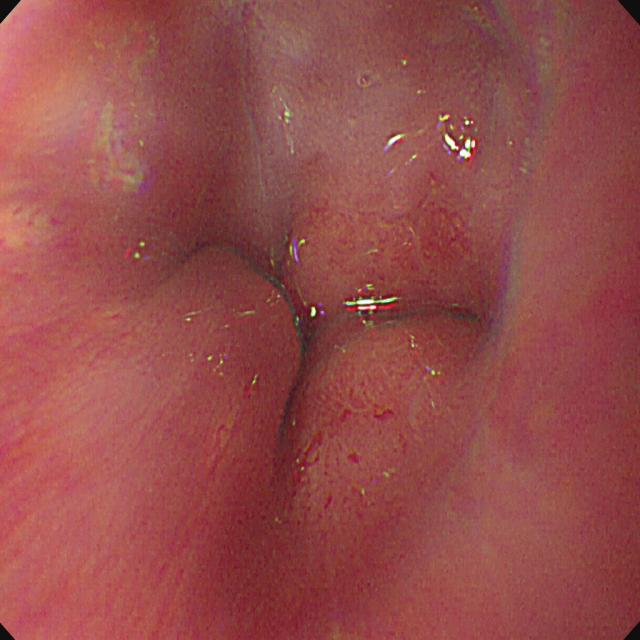D: (288, 386, 396, 511)
I: (152, 166, 448, 447)
U: (343, 287, 398, 323), (439, 112, 477, 162)
